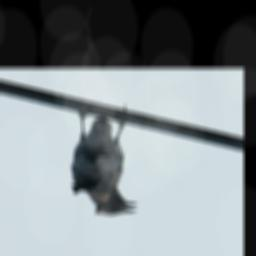Crow: (71, 102, 138, 219)
